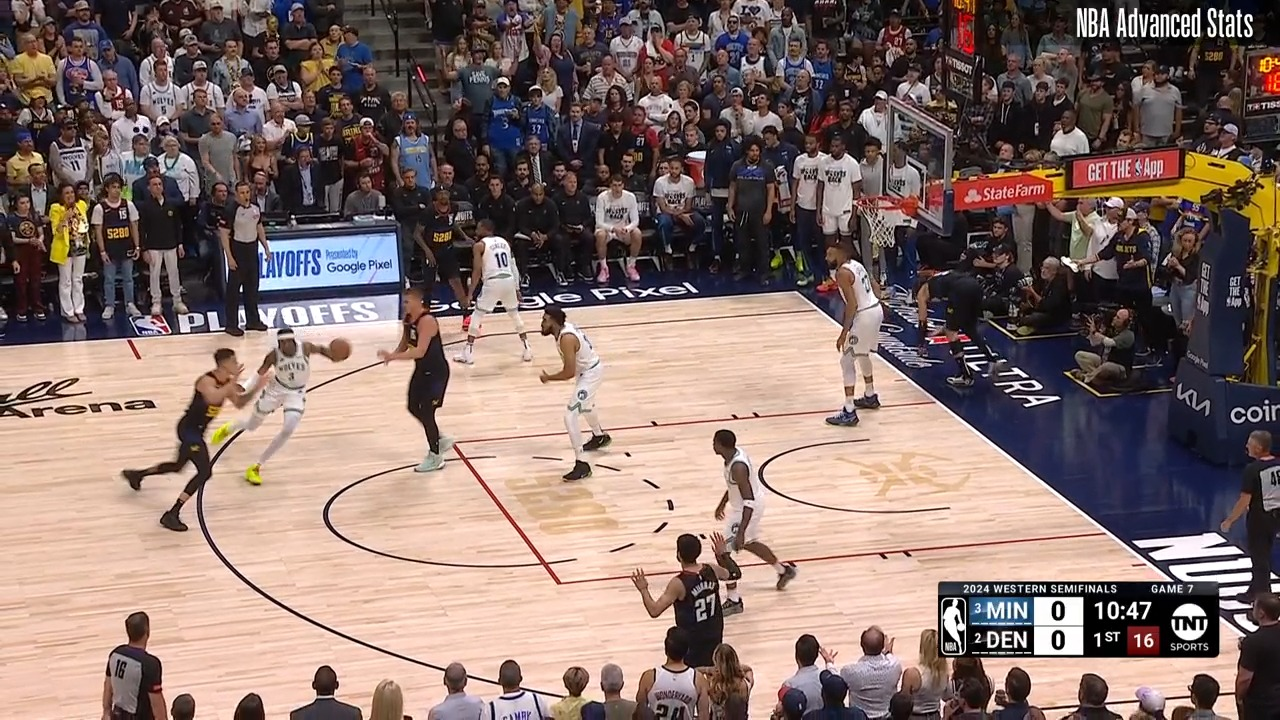basketball: (328, 337, 352, 362)
